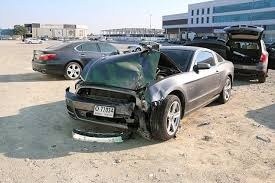Broken-glass: (131, 89, 151, 109)
Smashed: (65, 51, 179, 144)
